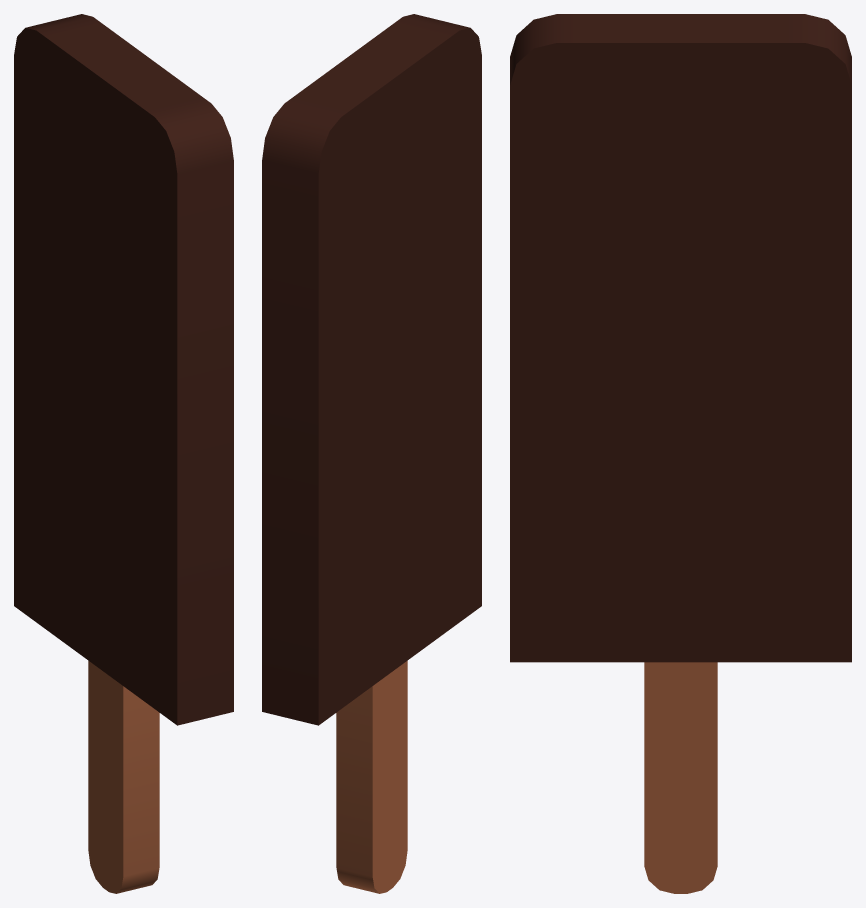
File: Choco_bar.fbx
3 views of the same model, side by side, from view 1: azimuth 30°, elevation 25°; view 2: azimuth 150°, elevation 25°; view 3: azimuth 270°, elevation 25° (orthographic). The views are drawn at different scales.
Parts seen in each view (by area): view 1: Choco_bar; view 2: Choco_bar; view 3: Choco_bar.
Boxes of the visible parts, x1,y1,x2,y2 form: Choco_bar: (14,14,233,893); Choco_bar: (262,14,481,893); Choco_bar: (510,14,851,893).
Size of the model in its own units: 0.0302 by 0.4175 by 0.151.
